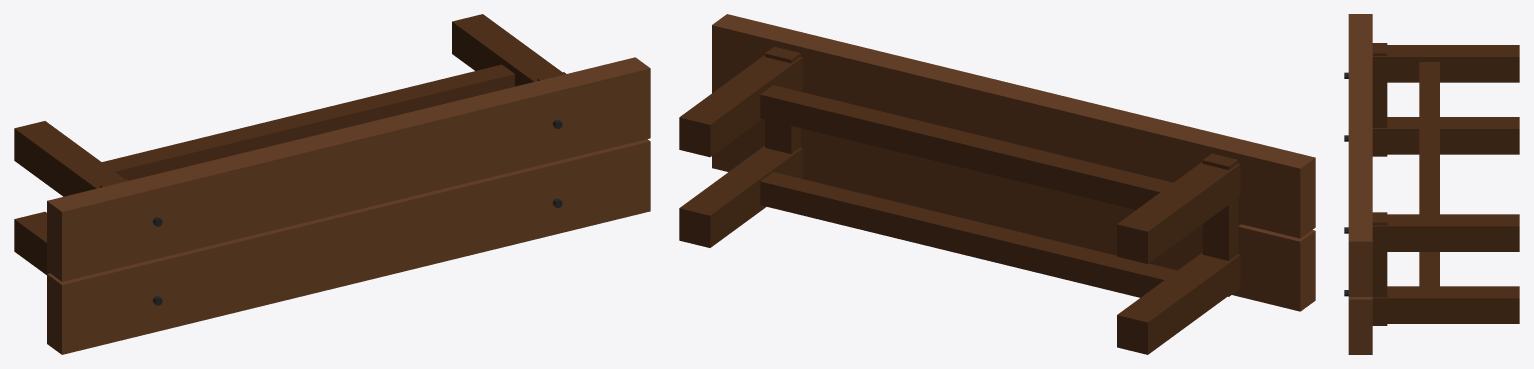
Rendered from SM_Izba_Bench_1348_LOD0.obj.
3 views of the same model, side by side, from view 1: azimuth 30°, elevation 25°; view 2: azimuth 150°, elevation 25°; view 3: azimuth 270°, elevation 25° (orthographic). The views are drawn at different scales.
Parts seen in each view (by area): view 1: bench_board, bench_rail, bench_leg; view 2: bench_board, bench_rail, bench_leg, bench_crossbeam; view 3: bench_leg, bench_board, bench_rail, bench_crossbeam.
Boxes of the visible parts, x1,y1,x2,y2 form: bench_board: [47, 57, 650, 354]; bench_rail: [102, 64, 514, 180]; bench_leg: [14, 14, 561, 274]; bench_board: [712, 14, 1315, 311]; bench_rail: [760, 85, 1177, 297]; bench_leg: [679, 55, 1240, 354]; bench_crossbeam: [765, 46, 1240, 296]; bench_leg: [1372, 45, 1519, 323]; bench_board: [1348, 14, 1372, 354]; bench_rail: [1419, 62, 1439, 286]; bench_crossbeam: [1372, 43, 1387, 325].
Bounding box in the file's own units: 1.56 × 0.362 × 0.507.
